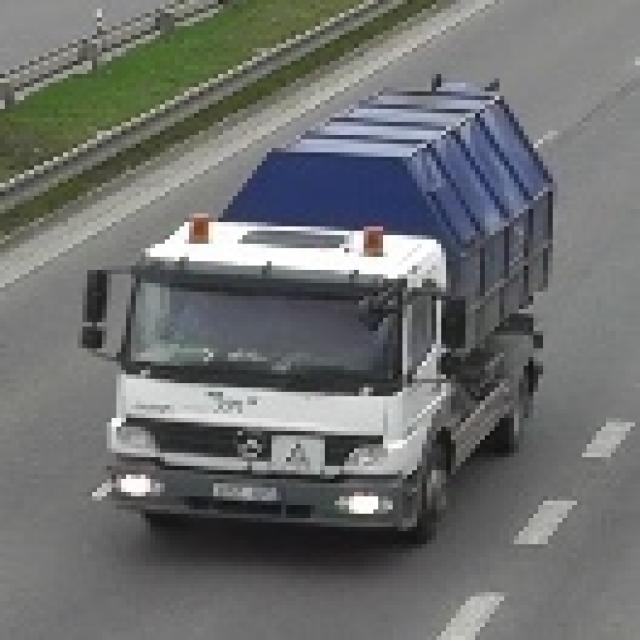truck: (78, 78, 552, 536)
